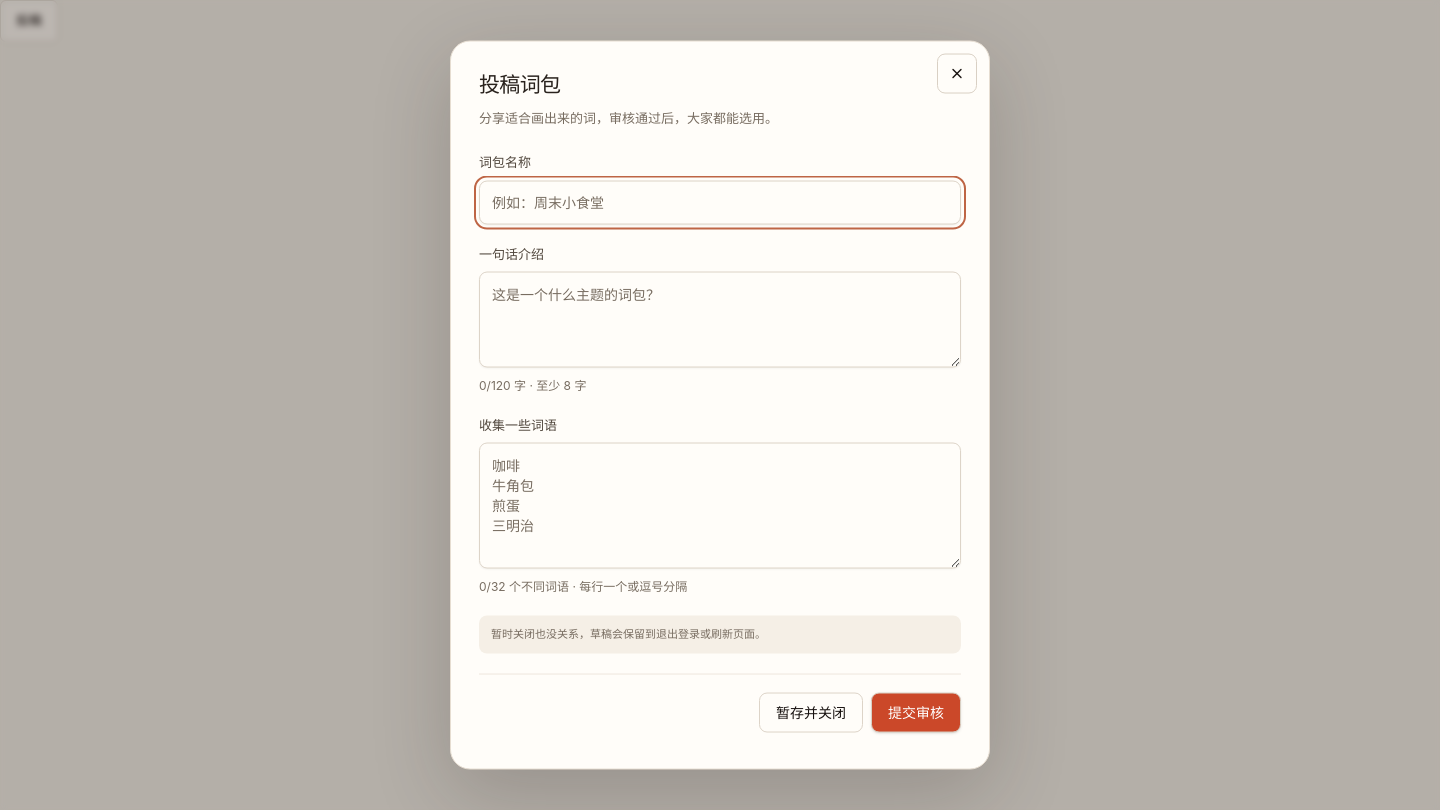
Test: validates unique word count, focuses errors, and keeps failed submissions editable
Type "水果" into the field labelled "词包名称" at (720, 202), box [479,180,961,224]
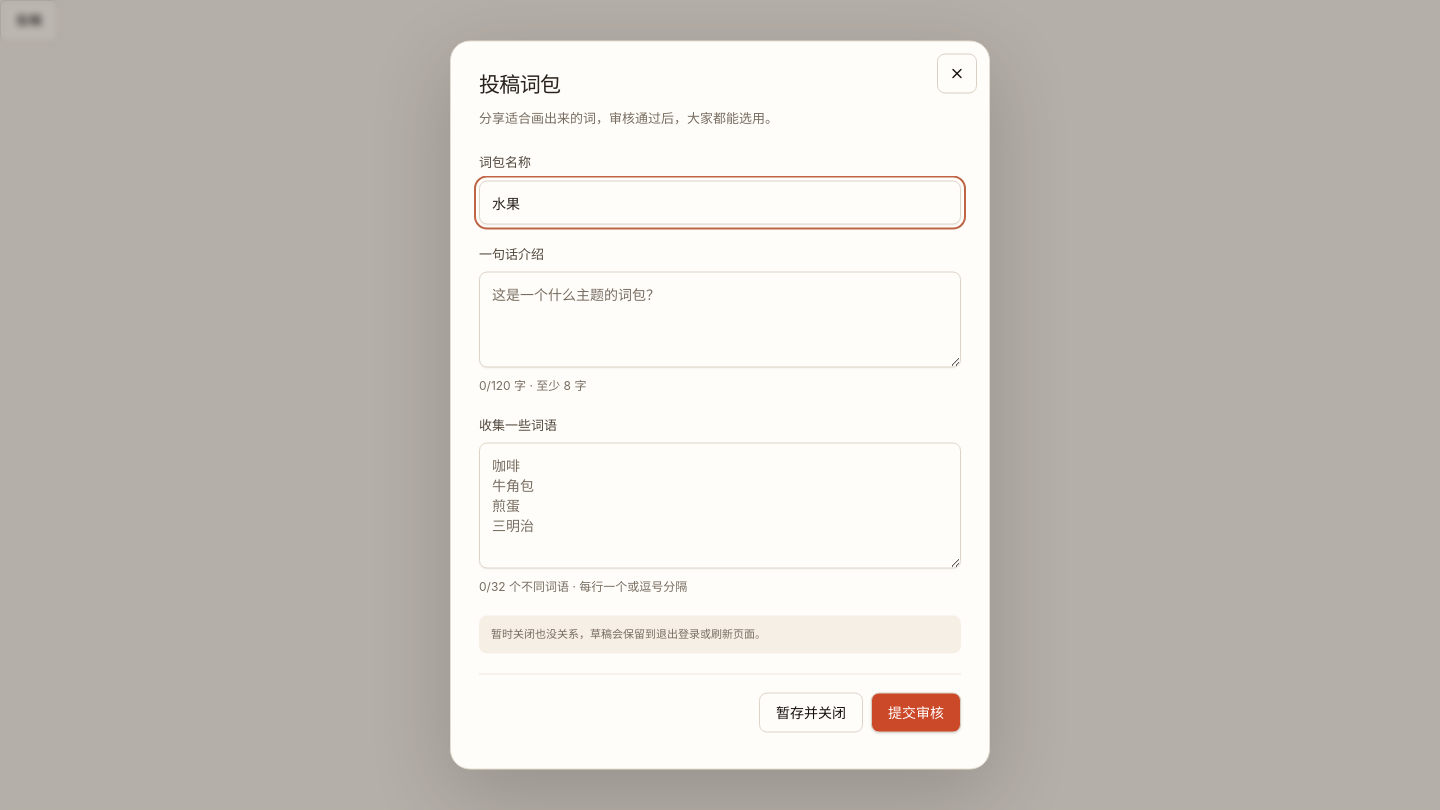
Type "适合热身的水果词包" into the text box labelled "一句话介绍" at (720, 320), box [479,272,961,368]
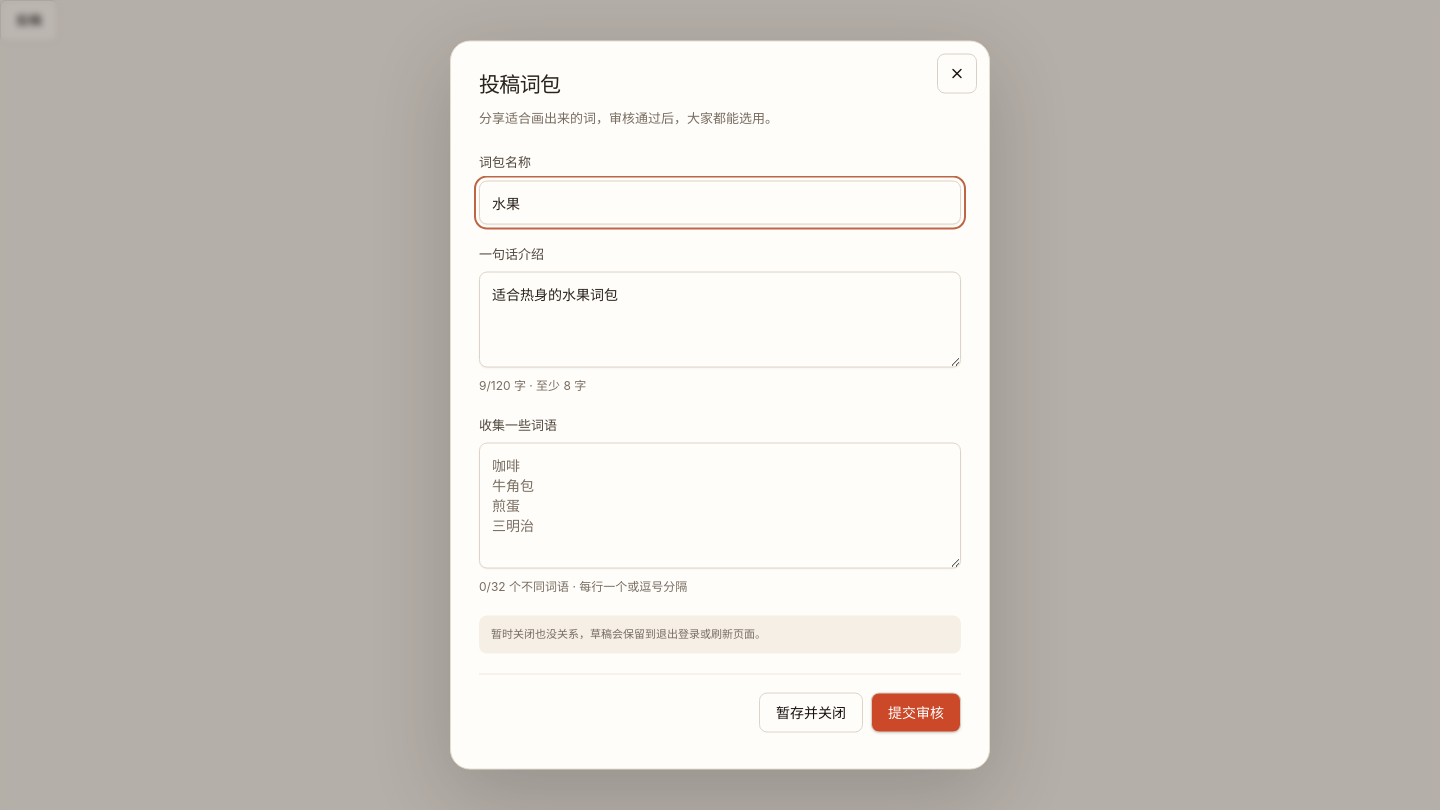
Type "苹果,苹果,苹果,苹果" into the text box labelled "收集一些词语" at (720, 506), box [479,443,961,569]
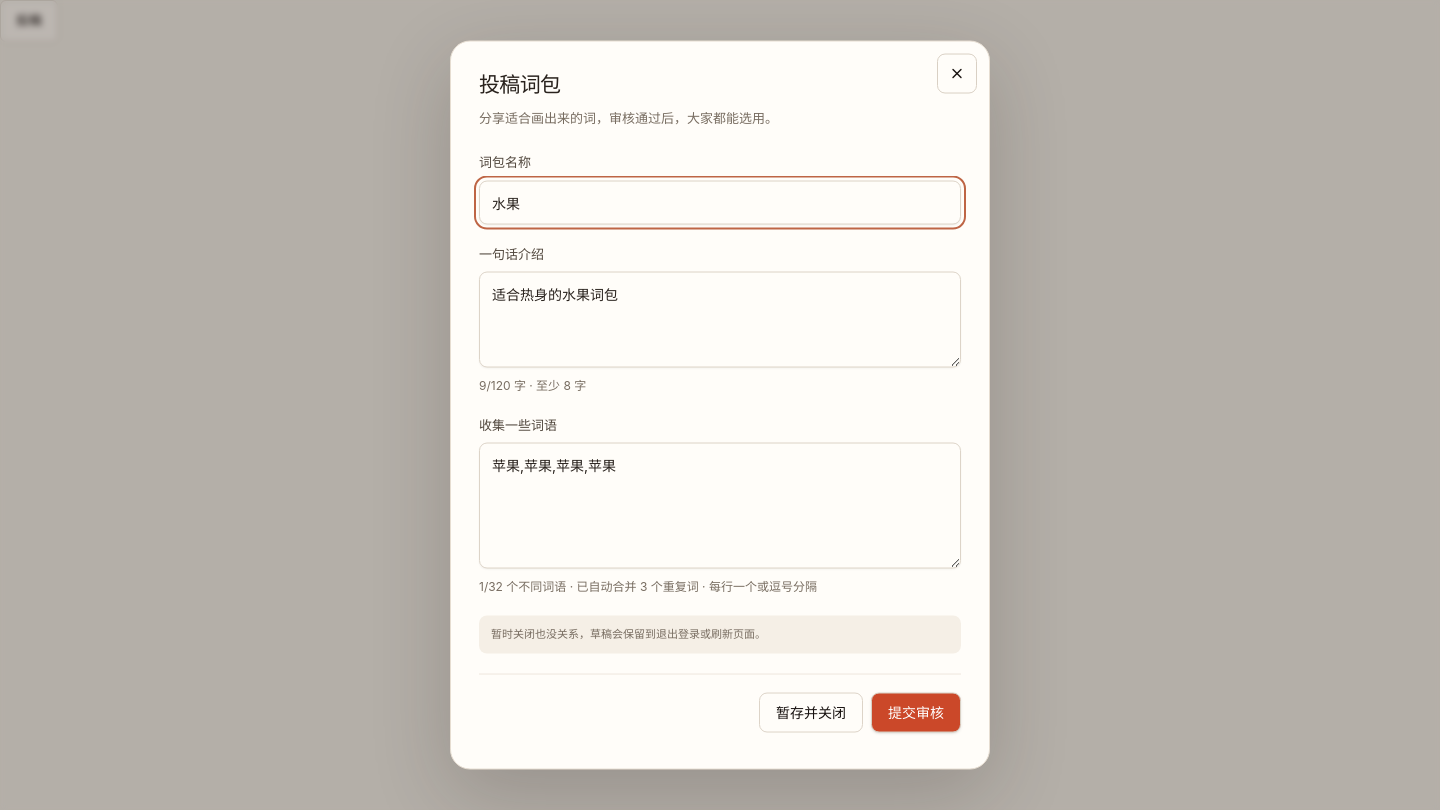
Click the button "提交审核" at (916, 712), box [871,692,961,732]
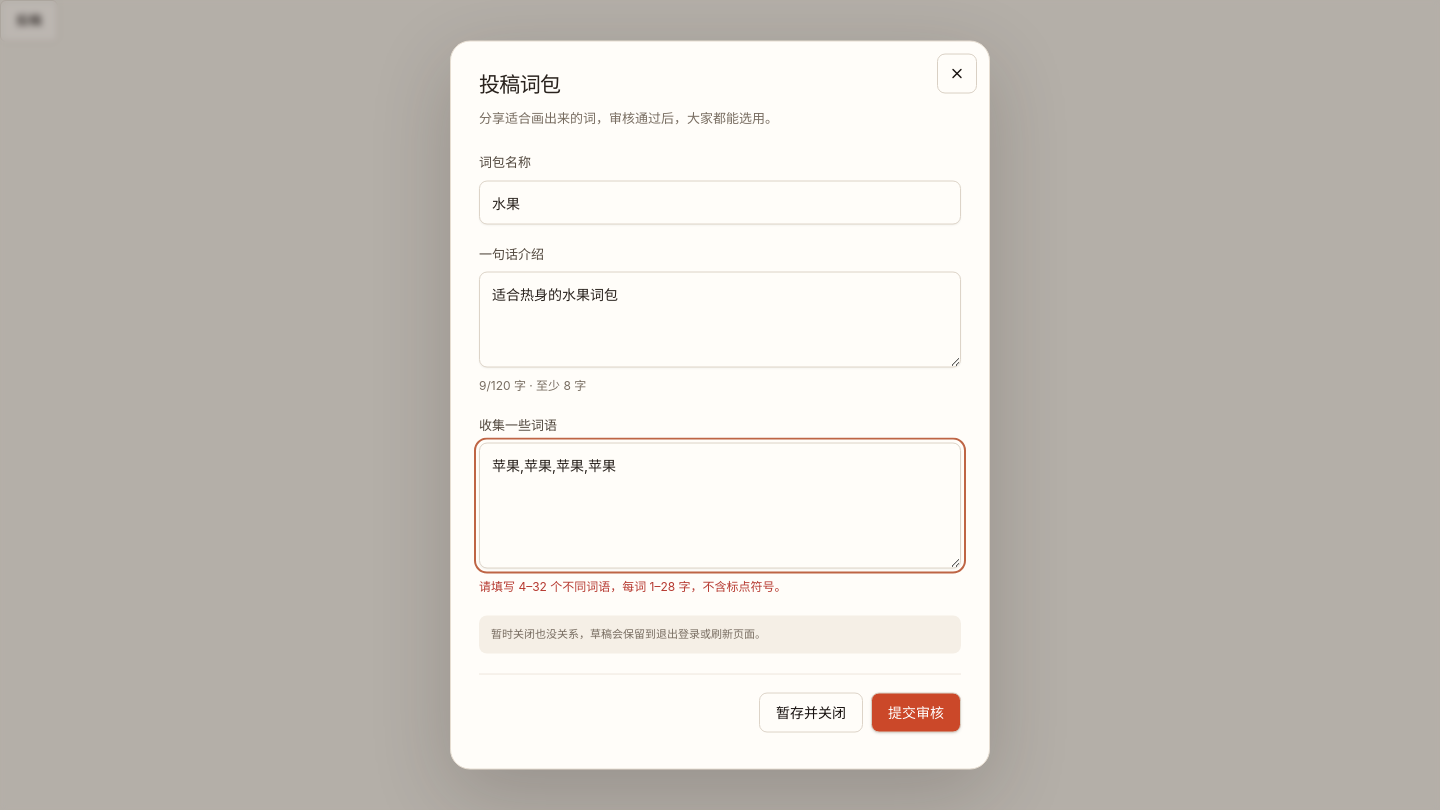
Expected: the message shows "不同词语", [479,579,787,594]
Replace the text in the text box labelled "收集一些词语" with "苹果,香蕉,西瓜,葡萄" at (720, 506), box [479,443,961,569]
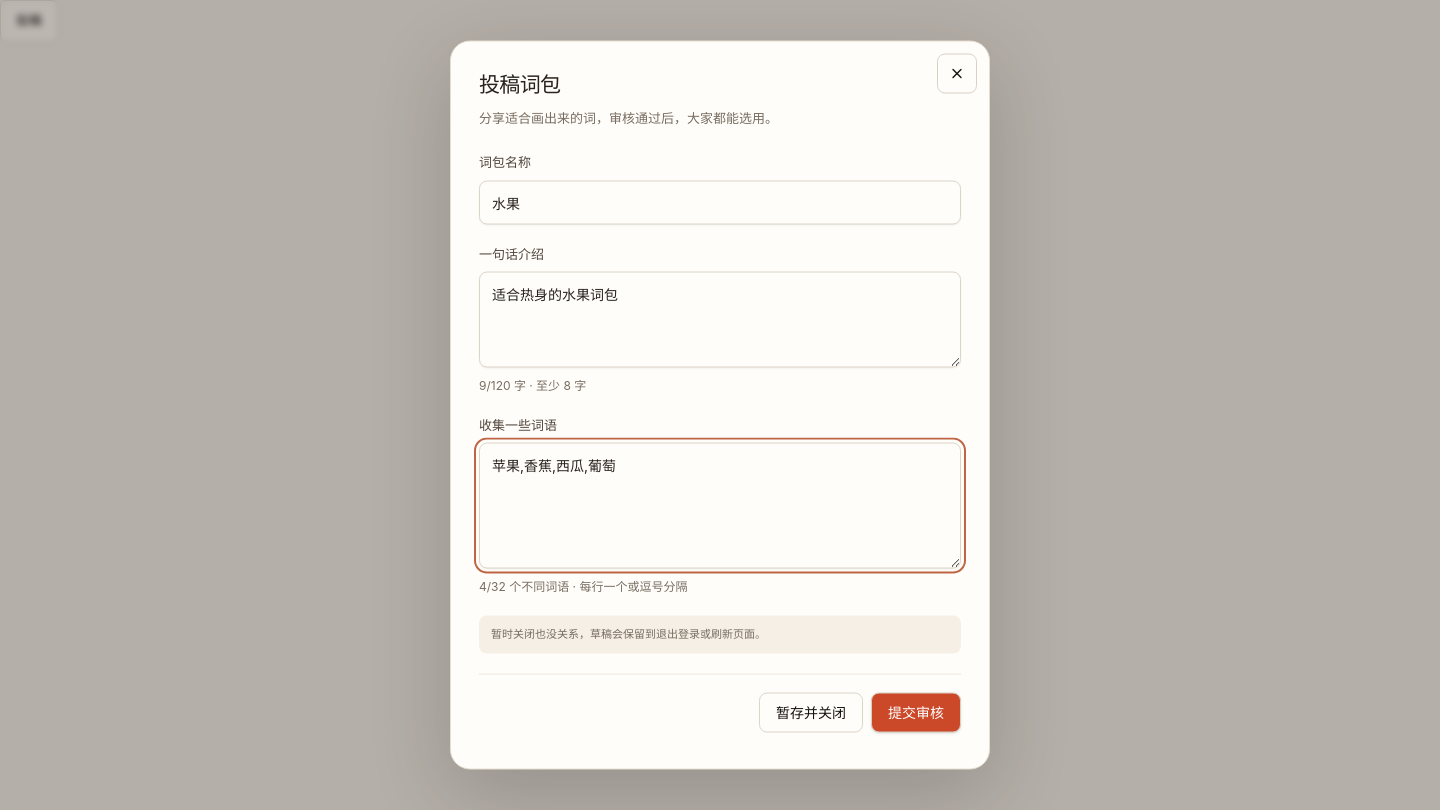
Click the button "提交审核" at (916, 712), box [871,692,961,732]
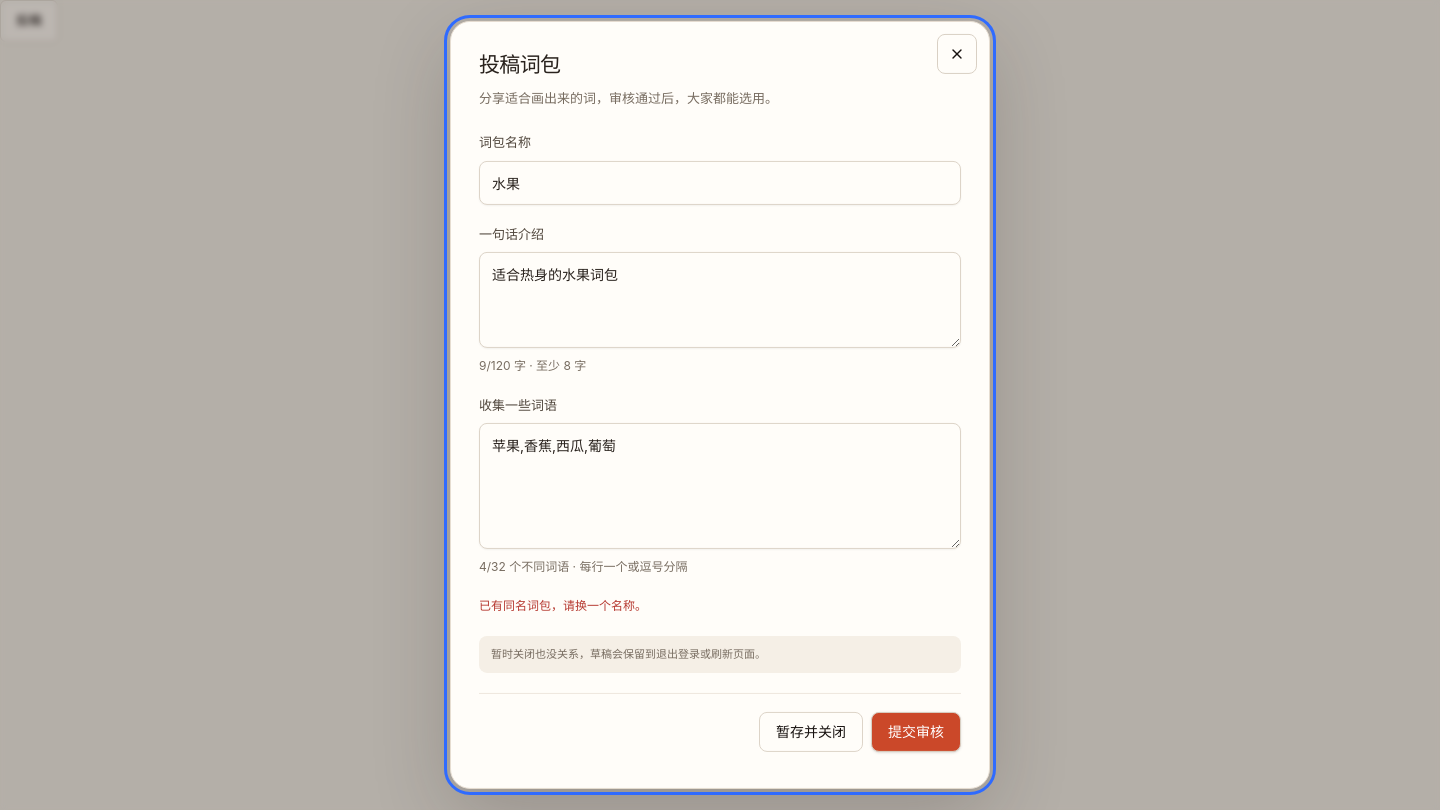
Expected: the text box labelled "收集一些词语" is enabled, [479,423,961,549]
Result: the message shows "同名词包" at [479,598,647,613]
